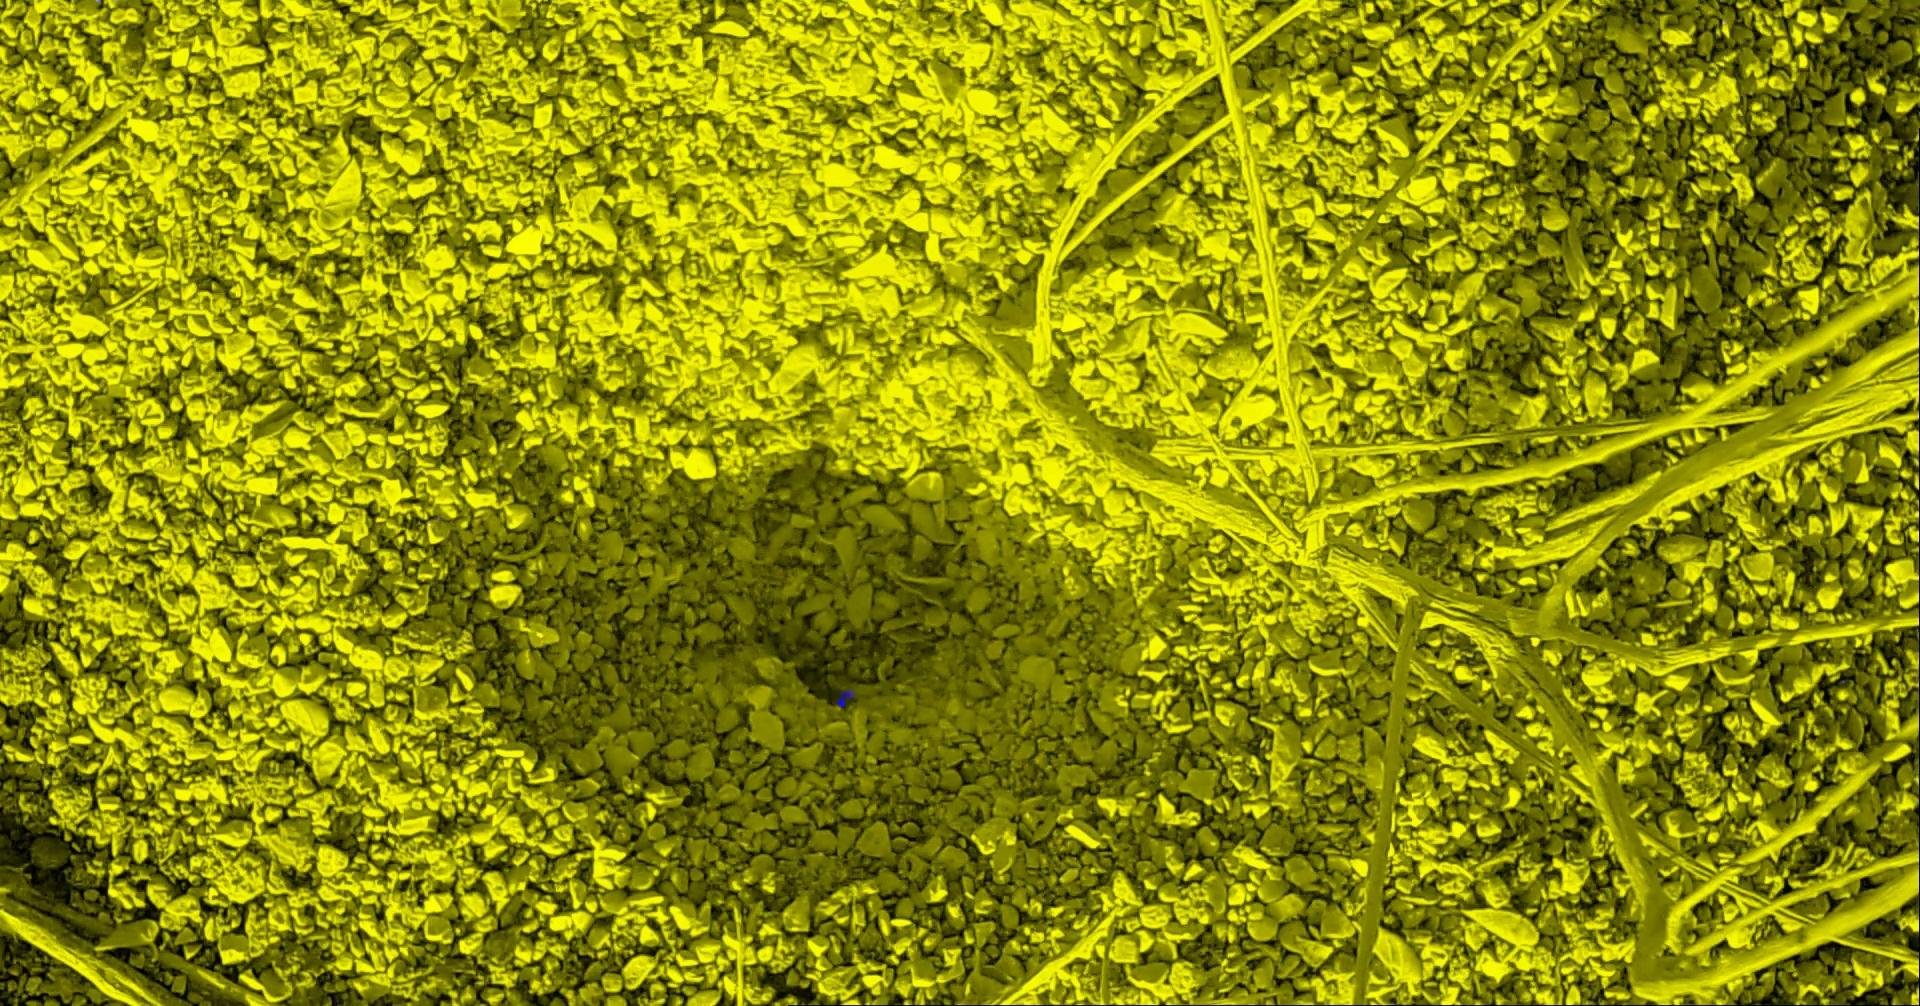ant: (836, 688, 855, 708)
